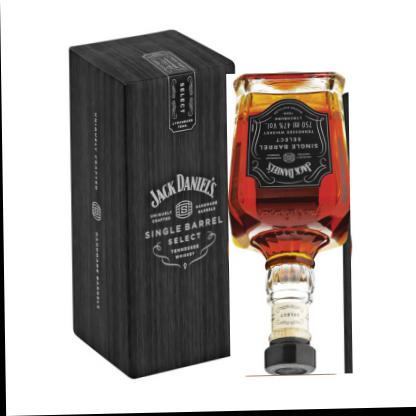alcohol: (225, 72, 353, 378)
